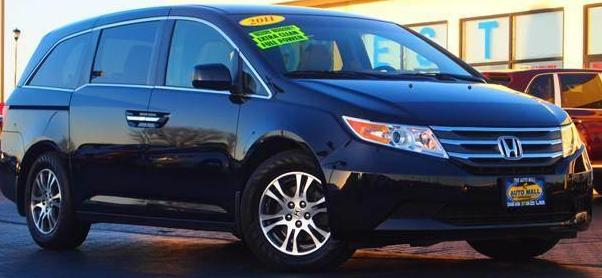front_view: (332, 96, 595, 247)
headlight: (316, 97, 465, 164)
side_glass: (74, 19, 245, 100)
